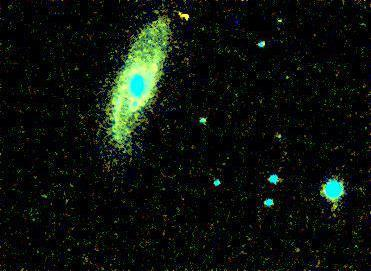star: (172, 1, 202, 31)
